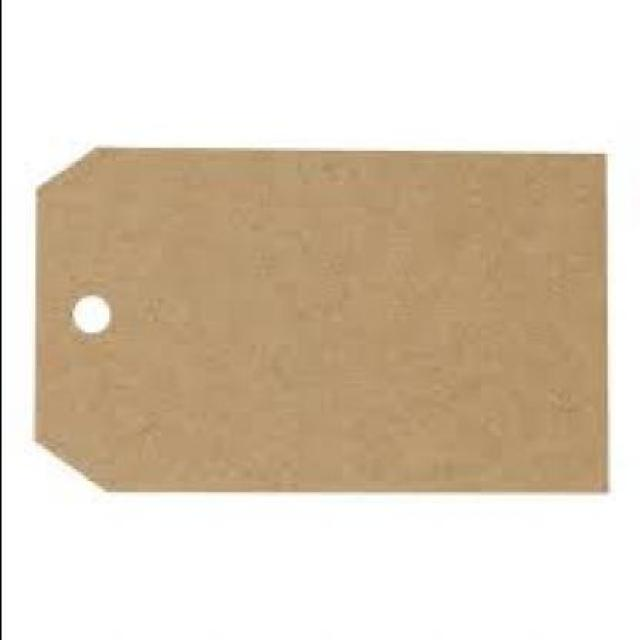cardboard: (31, 154, 603, 495)
